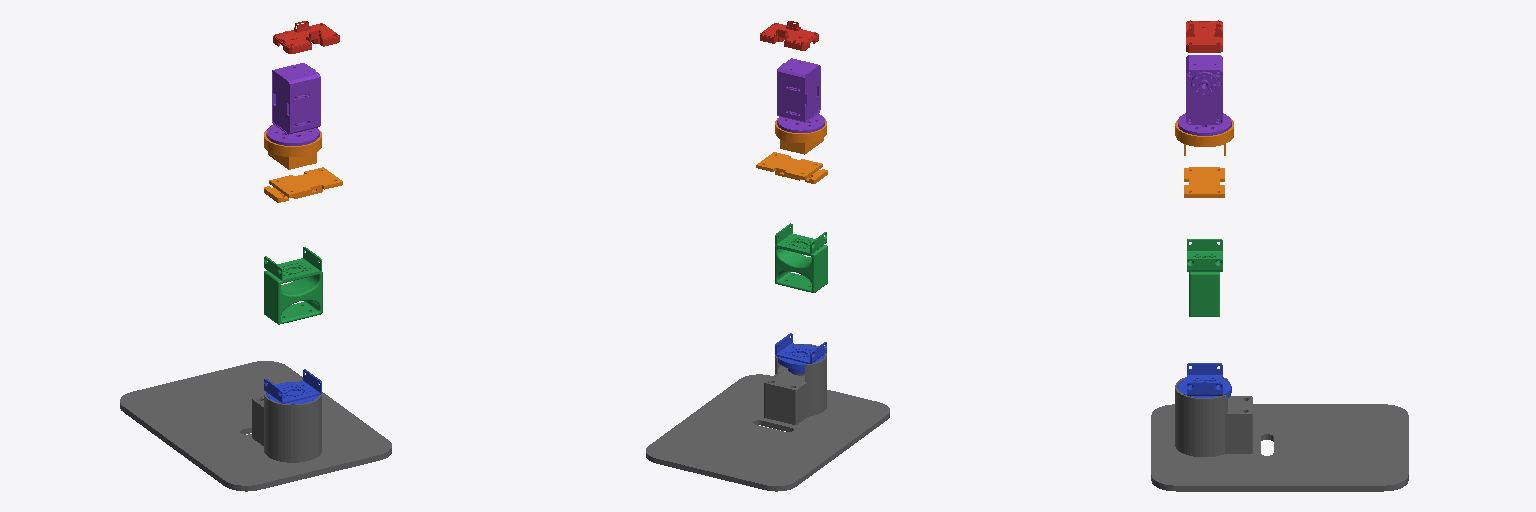
URDF robot description (robot_arm_fusion):
<?xml version="1.0"?>
<robot name="robot_arm_fusion">
  <material name="base_gray"><color rgba="0.45 0.45 0.45 1"/></material>
  <material name="yaw_blue"><color rgba="0.25 0.35 0.85 1"/></material>
  <material name="shoulder_green"><color rgba="0.2 0.65 0.35 1"/></material>
  <material name="upper_orange"><color rgba="0.95 0.55 0.15 1"/></material>
  <material name="forearm_purple"><color rgba="0.55 0.3 0.8 1"/></material>
  <material name="elbow_red"><color rgba="0.85 0.25 0.2 1"/></material>
  <material name="wrist_cyan"><color rgba="0.1 0.7 0.8 1"/></material>
  <material name="tool_yellow"><color rgba="0.9 0.8 0.1 1"/></material>

  <link name="linkA">
    <inertial>
      <origin xyz="0 0 0" rpy="0 0 0"/>
      <mass value="0.1"/>
      <inertia ixx="0.0001" ixy="0" ixz="0" iyy="0.0001" iyz="0" izz="0.0001"/>
    </inertial>
    <visual>
      <origin xyz="0.00015 -5e-05 0.022" rpy="-1.57772181e-30 2.95249936e-15 -3.14159265"/>
      <geometry><mesh filename="package://robot_arm_description/cad/exports/fusion_meshes/XM_H-430_idler_1_DUMMY_DC12_1.stl" scale="0.001 0.001 0.001"/></geometry>
      <material name="base_gray"/>
    </visual>
    <visual>
      <origin xyz="-0.075 -0.0413 0" rpy="0 -0 0"/>
      <geometry><mesh filename="package://robot_arm_description/cad/exports/fusion_meshes/arm_plate_v2_1.stl" scale="0.001 0.001 0.001"/></geometry>
      <material name="base_gray"/>
    </visual>
  </link>

  <link name="linkB">
    <inertial>
      <origin xyz="0 0 0" rpy="0 0 0"/>
      <mass value="0.1"/>
      <inertia ixx="0.0001" ixy="0" ixz="0" iyy="0.0001" iyz="0" izz="0.0001"/>
    </inertial>
    <visual>
      <origin xyz="-1.21137049e-17 7.14149758e-18 0.0735" rpy="1.57079633 6.78233664e-17 1.57079633"/>
      <geometry><mesh filename="package://robot_arm_description/cad/exports/fusion_meshes/XM_H-430_idler_2_DUMMY_DC12_1.stl" scale="0.001 0.001 0.001"/></geometry>
      <material name="yaw_blue"/>
    </visual>
    <visual>
      <origin xyz="5.4378151e-34 8.78271367e-36 0.033" rpy="-3.14159265 -6.12243551e-17 -3.14159265"/>
      <geometry><mesh filename="package://robot_arm_description/cad/exports/fusion_meshes/arm_thrustA_1.stl" scale="0.001 0.001 0.001"/></geometry>
      <material name="yaw_blue"/>
    </visual>
    <visual>
      <origin xyz="1.17310153e-17 3.15459156e-18 0.0525" rpy="-3.14159265 -4.08083249e-16 -3.14159265"/>
      <geometry><mesh filename="package://robot_arm_description/cad/exports/fusion_meshes/fr12_s102_k_1.stl" scale="0.001 0.001 0.001"/></geometry>
      <material name="yaw_blue"/>
    </visual>
  </link>

  <link name="linkC">
    <inertial>
      <origin xyz="0 0 0" rpy="0 0 0"/>
      <mass value="0.1"/>
      <inertia ixx="0.0001" ixy="0" ixz="0" iyy="0.0001" iyz="0" izz="0.0001"/>
    </inertial>
    <visual>
      <origin xyz="1.25281729e-16 -2.62012634e-16 0.1067" rpy="1.57079633 1.66533454e-16 1.57079633"/>
      <geometry><mesh filename="package://robot_arm_description/cad/exports/fusion_meshes/XM_H-430_idler_3_DUMMY_DC12_1.stl" scale="0.001 0.001 0.001"/></geometry>
      <material name="shoulder_green"/>
    </visual>
    <visual>
      <origin xyz="-0.0205 -0.012 0.02795" rpy="0 -1.57079633 -1.57079633"/>
      <geometry><mesh filename="package://robot_arm_description/cad/exports/fusion_meshes/arm_part1_v2_1.stl" scale="0.001 0.001 0.001"/></geometry>
      <material name="shoulder_green"/>
    </visual>
    <visual>
      <origin xyz="9.96980479e-17 1.30429521e-17 -5e-05" rpy="1.57079633 4.08083249e-16 1.17961196e-16"/>
      <geometry><mesh filename="package://robot_arm_description/cad/exports/fusion_meshes/fr12_h101_k_1.stl" scale="0.001 0.001 0.001"/></geometry>
      <material name="shoulder_green"/>
    </visual>
    <visual>
      <origin xyz="1.29896094e-16 -2.22044605e-16 0.0857" rpy="3.14159265 4.07956501e-16 -7.97372366e-16"/>
      <geometry><mesh filename="package://robot_arm_description/cad/exports/fusion_meshes/fr12_s102_k_1.stl" scale="0.001 0.001 0.001"/></geometry>
      <material name="shoulder_green"/>
    </visual>
  </link>

  <link name="linkD">
    <inertial>
      <origin xyz="0 0 0" rpy="0 0 0"/>
      <mass value="0.1"/>
      <inertia ixx="0.0001" ixy="0" ixz="0" iyy="0.0001" iyz="0" izz="0.0001"/>
    </inertial>
    <visual>
      <origin xyz="1.01307851e-17 -1.33226763e-16 0.052" rpy="3.27181367e-16 2.77555756e-17 1.57079633"/>
      <geometry><mesh filename="package://robot_arm_description/cad/exports/fusion_meshes/XM_H-430_idler_4_DUMMY_DC12_1.stl" scale="0.001 0.001 0.001"/></geometry>
      <material name="upper_orange"/>
    </visual>
    <visual>
      <origin xyz="-0.0205 -0.012 0.028" rpy="-5.55111512e-17 3.35102683e-16 -7.87663769e-16"/>
      <geometry><mesh filename="package://robot_arm_description/cad/exports/fusion_meshes/arm_hand_v2_2.stl" scale="0.001 0.001 0.001"/></geometry>
      <material name="upper_orange"/>
    </visual>
    <visual>
      <origin xyz="1e-05 0.00025 0.069" rpy="3.27181367e-16 1.84889275e-31 1.57079633"/>
      <geometry><mesh filename="package://robot_arm_description/cad/exports/fusion_meshes/arm_thrustD_1.stl" scale="0.001 0.001 0.001"/></geometry>
      <material name="upper_orange"/>
    </visual>
    <visual>
      <origin xyz="-2.42904402e-17 -2.66453526e-16 2.69229083e-15" rpy="1.57079633 4.08601719e-16 -7.87663769e-16"/>
      <geometry><mesh filename="package://robot_arm_description/cad/exports/fusion_meshes/fr12_h101_k_1.stl" scale="0.001 0.001 0.001"/></geometry>
      <material name="upper_orange"/>
    </visual>
  </link>

  <link name="linkE">
    <inertial>
      <origin xyz="0 0 0" rpy="0 0 0"/>
      <mass value="0.1"/>
      <inertia ixx="0.0001" ixy="0" ixz="0" iyy="0.0001" iyz="0" izz="0.0001"/>
    </inertial>
    <visual>
      <origin xyz="2.29501218e-17 -5.55111512e-17 0.069" rpy="1.57079633 2.47024623e-15 1.57079633"/>
      <geometry><mesh filename="package://robot_arm_description/cad/exports/fusion_meshes/XC-430_idle_1_DC11_B01_CASE_B_DUMMY2_1.stl" scale="0.001 0.001 0.001"/></geometry>
      <material name="forearm_purple"/>
    </visual>
    <visual>
      <origin xyz="4.4408921e-18 -7.54951657e-17 0.069" rpy="1.57079633 2.49800181e-15 1.57079633"/>
      <geometry><mesh filename="package://robot_arm_description/cad/exports/fusion_meshes/XC-430_idle_1_DC11_B01_CASE_F_DUMMY_1.stl" scale="0.001 0.001 0.001"/></geometry>
      <material name="forearm_purple"/>
    </visual>
    <visual>
      <origin xyz="1.81780483e-17 -8.21565038e-17 0.069" rpy="1.57079633 2.47024623e-15 1.57079633"/>
      <geometry><mesh filename="package://robot_arm_description/cad/exports/fusion_meshes/XC-430_idle_1_DC11_B01_CASE_M_DUMMY_1.stl" scale="0.001 0.001 0.001"/></geometry>
      <material name="forearm_purple"/>
    </visual>
    <visual>
      <origin xyz="0.0155 -1.77635684e-16 0.069" rpy="0 -1.57079633 -1.57079633"/>
      <geometry><mesh filename="package://robot_arm_description/cad/exports/fusion_meshes/XC-430_idle_1_M_DC11_A01_HORN_ASM_1_M_DC11_A01_HORN_1.stl" scale="0.001 0.001 0.001"/></geometry>
      <material name="forearm_purple"/>
    </visual>
    <visual>
      <origin xyz="3.73034936e-16 8.8817842e-18 0.0285" rpy="3.14159265 9.35362898e-15 2.22044605e-16"/>
      <geometry><mesh filename="package://robot_arm_description/cad/exports/fusion_meshes/arm_thrustB_1.stl" scale="0.001 0.001 0.001"/></geometry>
      <material name="forearm_purple"/>
    </visual>
    <visual>
      <origin xyz="5.59552404e-16 7.10542736e-17 0.048" rpy="3.14159265 9.35362898e-15 2.22044605e-16"/>
      <geometry><mesh filename="package://robot_arm_description/cad/exports/fusion_meshes/fr12_s102_k_2.stl" scale="0.001 0.001 0.001"/></geometry>
      <material name="forearm_purple"/>
    </visual>
  </link>

  <link name="linkF">
    <inertial>
      <origin xyz="0 0 0" rpy="0 0 0"/>
      <mass value="0.1"/>
      <inertia ixx="0.0001" ixy="0" ixz="0" iyy="0.0001" iyz="0" izz="0.0001"/>
    </inertial>
    <visual>
      <origin xyz="-1.33573708e-17 8.8817842e-18 0.052" rpy="3.53213218e-16 2.41473508e-15 1.57079633"/>
      <geometry><mesh filename="package://robot_arm_description/cad/exports/fusion_meshes/XC-430_idle_2_DC11_B01_CASE_B_DUMMY2_1.stl" scale="0.001 0.001 0.001"/></geometry>
      <material name="elbow_red"/>
    </visual>
    <visual>
      <origin xyz="-1.04100956e-18 -1.08107967e-17 0.052" rpy="3.53213218e-16 2.41473508e-15 1.57079633"/>
      <geometry><mesh filename="package://robot_arm_description/cad/exports/fusion_meshes/XC-430_idle_2_DC11_B01_CASE_F_DUMMY_1.stl" scale="0.001 0.001 0.001"/></geometry>
      <material name="elbow_red"/>
    </visual>
    <visual>
      <origin xyz="-1.11022302e-18 1.20736754e-17 0.052" rpy="3.53213218e-16 2.47024623e-15 1.57079633"/>
      <geometry><mesh filename="package://robot_arm_description/cad/exports/fusion_meshes/XC-430_idle_2_DC11_B01_CASE_M_DUMMY_1.stl" scale="0.001 0.001 0.001"/></geometry>
      <material name="elbow_red"/>
    </visual>
    <visual>
      <origin xyz="-0.0205 -0.012 0.028" rpy="-2.35922393e-15 1.90763088e-16 -6.81142969e-16"/>
      <geometry><mesh filename="package://robot_arm_description/cad/exports/fusion_meshes/arm_hand_v2_1.stl" scale="0.001 0.001 0.001"/></geometry>
      <material name="elbow_red"/>
    </visual>
    <visual>
      <origin xyz="2.88657986e-17 -1.59872116e-16 4.5519144e-15" rpy="1.57079633 -4.09199766e-16 3.14159265"/>
      <geometry><mesh filename="package://robot_arm_description/cad/exports/fusion_meshes/fr12_h101_k_3.stl" scale="0.001 0.001 0.001"/></geometry>
      <material name="elbow_red"/>
    </visual>
  </link>

  <link name="linkG">
    <inertial>
      <origin xyz="0 0 0" rpy="0 0 0"/>
      <mass value="0.1"/>
      <inertia ixx="0.0001" ixy="0" ixz="0" iyy="0.0001" iyz="0" izz="0.0001"/>
    </inertial>
    <visual>
      <origin xyz="2.30371278e-17 3.63598041e-17 4.99600361e-15" rpy="1.57079633 -3.53213218e-16 3.14159265"/>
      <geometry><mesh filename="package://robot_arm_description/cad/exports/fusion_meshes/XC-430_idle_2_M_DC11_A01_HORN_ASM_1_M_DC11_A01_HORN_1.stl" scale="0.001 0.001 0.001"/></geometry>
      <material name="wrist_cyan"/>
    </visual>
  </link>

  <joint name="base_yaw_joint" type="revolute">
    <parent link="linkA"/>
    <child link="linkB"/>
    <origin xyz="0 0 0.022" rpy="0 0 0"/>
    <axis xyz="0 0 1"/>
    <limit lower="-3.14159265" upper="3.14159265" effort="2.0" velocity="1.0"/>
  </joint>

  <joint name="shoulder_pitch_joint" type="revolute">
    <parent link="linkB"/>
    <child link="linkC"/>
    <origin xyz="0 0 0.0735" rpy="0 0 0"/>
    <axis xyz="1 0 0"/>
    <limit lower="-1.57079633" upper="1.57079633" effort="2.0" velocity="1.0"/>
  </joint>

  <joint name="upper_arm_roll_joint" type="revolute">
    <parent link="linkC"/>
    <child link="linkD"/>
    <origin xyz="0 0 0.1067" rpy="0 0 0"/>
    <axis xyz="1 0 0"/>
    <limit lower="-1.57079633" upper="1.57079633" effort="2.0" velocity="1.0"/>
  </joint>

  <joint name="elbow_pitch_joint" type="revolute">
    <parent link="linkD"/>
    <child link="linkE"/>
    <origin xyz="0 0 0.052" rpy="0 0 0"/>
    <axis xyz="0 0 1"/>
    <limit lower="-1.57079633" upper="1.57079633" effort="2.0" velocity="1.0"/>
  </joint>

  <joint name="elbow_roll_joint" type="revolute">
    <parent link="linkE"/>
    <child link="linkF"/>
    <origin xyz="0 0 0.069" rpy="0 0 0"/>
    <axis xyz="1 0 0"/>
    <limit lower="-1.57079633" upper="1.57079633" effort="2.0" velocity="1.0"/>
  </joint>

  <joint name="wrist_pitch_joint" type="revolute">
    <parent link="linkF"/>
    <child link="linkG"/>
    <origin xyz="0 0 0.0675" rpy="0 0 0"/>
    <axis xyz="0 0 1"/>
    <limit lower="-1.57079633" upper="1.57079633" effort="2.0" velocity="1.0"/>
  </joint>

</robot>

--- What the picture shows (computed from the rendered views, not written in the file) ---
3 views of the same robot in one strip: view 1: azimuth 30°, elevation 25°; view 2: azimuth 150°, elevation 25°; view 3: azimuth 270°, elevation 25° (orthographic).
Model robot_arm_fusion with 7 links and 6 joints (6 revolute), rooted at linkA, posed all joints at 0.
Visible links, largest first — view 1: linkA, linkE, linkC, linkD, linkF, linkB; view 2: linkA, linkE, linkC, linkD, linkB, linkF; view 3: linkA, linkE, linkC, linkD, linkB, linkF.
Boxes of the visible links, <box> form: linkA: <box>120,361,391,491</box>; linkE: <box>267,63,320,145</box>; linkC: <box>264,247,322,324</box>; linkD: <box>264,130,342,202</box>; linkF: <box>273,21,339,53</box>; linkB: <box>264,369,321,404</box>; linkA: <box>646,344,889,491</box>; linkE: <box>777,58,824,132</box>; linkC: <box>775,223,827,292</box>; linkD: <box>756,118,827,183</box>; linkB: <box>775,333,826,373</box>; linkF: <box>760,21,818,50</box>; linkA: <box>1151,377,1408,491</box>; linkE: <box>1178,55,1231,135</box>; linkC: <box>1187,239,1222,316</box>; linkD: <box>1175,119,1233,197</box>; linkB: <box>1178,363,1231,397</box>; linkF: <box>1186,20,1222,52</box>.
Bounding box of the posed robot: 0.15 × 0.2 × 0.3705 m (x, y, z).
13 mesh visuals loaded from 23 distinct referenced files (12 binary STL); not drawn: 12 (reference not matched to a file when rendering).
